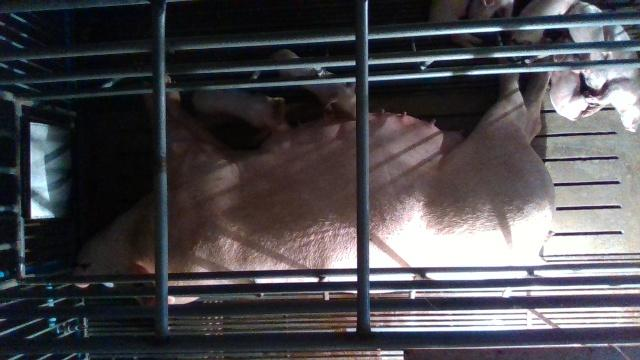piglet: (585, 3, 639, 132), (274, 48, 358, 120), (192, 88, 289, 134), (548, 40, 595, 122), (565, 2, 605, 91), (511, 0, 575, 44), (432, 0, 481, 49), (470, 0, 516, 20)
sow-sleep-lactate: (74, 74, 555, 306)
